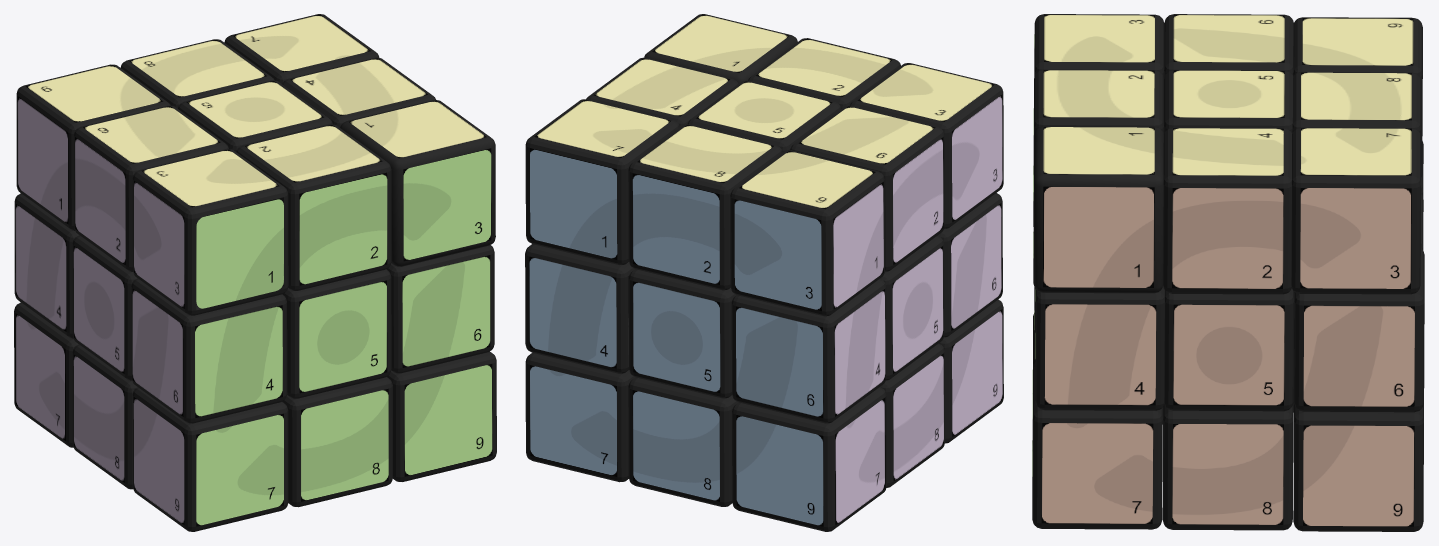
Rendered from Rubix_cube_Animation_experiment.glb.
The picture shows the model from 3 angles, left to right: view 1: azimuth 30°, elevation 25°; view 2: azimuth 150°, elevation 25°; view 3: azimuth 270°, elevation 25°; orthographic projection. The views are drawn at different scales.
Parts seen in each view (by area): view 1: s3_block_3, s3_block_9, s3_block_6, s3_block_2, s3_block_5, s3_block_8, s3_block_7, s3_block_4, s3_block_1, top_block_3, s4_block_1, s4_block_6 (+34 smaller); view 2: s1_block_4, s1_block_9, s1_block_3, s1_block_5, s1_block_6, s1_block_8, s1_block_2, s1_block_7, s1_block_1, top_block_9, s4_block_8, s4_block_6 (+34 smaller); view 3: s2_block_5, s2_block_9, s2_block_3, s2_block_8, s2_block_2, s2_block_1, s2_block_6, s2_block_4, s2_block_7, top_block_1, top_block_7, top_block_4 (+21 smaller).
Part boxes in pixels (x1,y1,x2,y2): s3_block_3: [403, 148, 491, 261]; s3_block_9: [404, 364, 492, 476]; s3_block_6: [402, 255, 490, 367]; s3_block_2: [299, 172, 387, 285]; s3_block_5: [299, 280, 387, 393]; s3_block_8: [301, 388, 388, 501]; s3_block_7: [196, 413, 283, 526]; s3_block_4: [195, 305, 282, 417]; s3_block_1: [196, 199, 283, 308]; top_block_3: [132, 149, 288, 315]; s4_block_1: [17, 96, 68, 223]; s4_block_6: [132, 289, 183, 416]; s1_block_4: [529, 256, 616, 368]; s1_block_9: [736, 415, 823, 526]; s1_block_3: [734, 199, 821, 310]; s1_block_5: [633, 281, 720, 392]; s1_block_6: [736, 306, 823, 417]; s1_block_8: [632, 390, 719, 501]; s1_block_2: [632, 173, 719, 284]; s1_block_7: [530, 365, 617, 476]; s1_block_1: [530, 148, 617, 259]; top_block_9: [730, 150, 884, 316]; s4_block_8: [893, 353, 943, 480]; s4_block_6: [951, 203, 1001, 330]; s2_block_5: [1173, 304, 1284, 405]; s2_block_9: [1303, 425, 1414, 526]; s2_block_3: [1300, 188, 1411, 288]; s2_block_8: [1172, 424, 1283, 524]; s2_block_2: [1172, 188, 1283, 288]; s2_block_1: [1043, 186, 1154, 287]; s2_block_6: [1303, 305, 1414, 406]; s2_block_4: [1044, 304, 1156, 405]; s2_block_7: [1041, 423, 1153, 523]; top_block_1: [1033, 126, 1163, 293]; top_block_7: [1291, 127, 1421, 294]; top_block_4: [1163, 127, 1292, 294].
Bounding box in the file's own units: 6.07 × 6.09 × 6.04.
7 materials, 6 textured.
